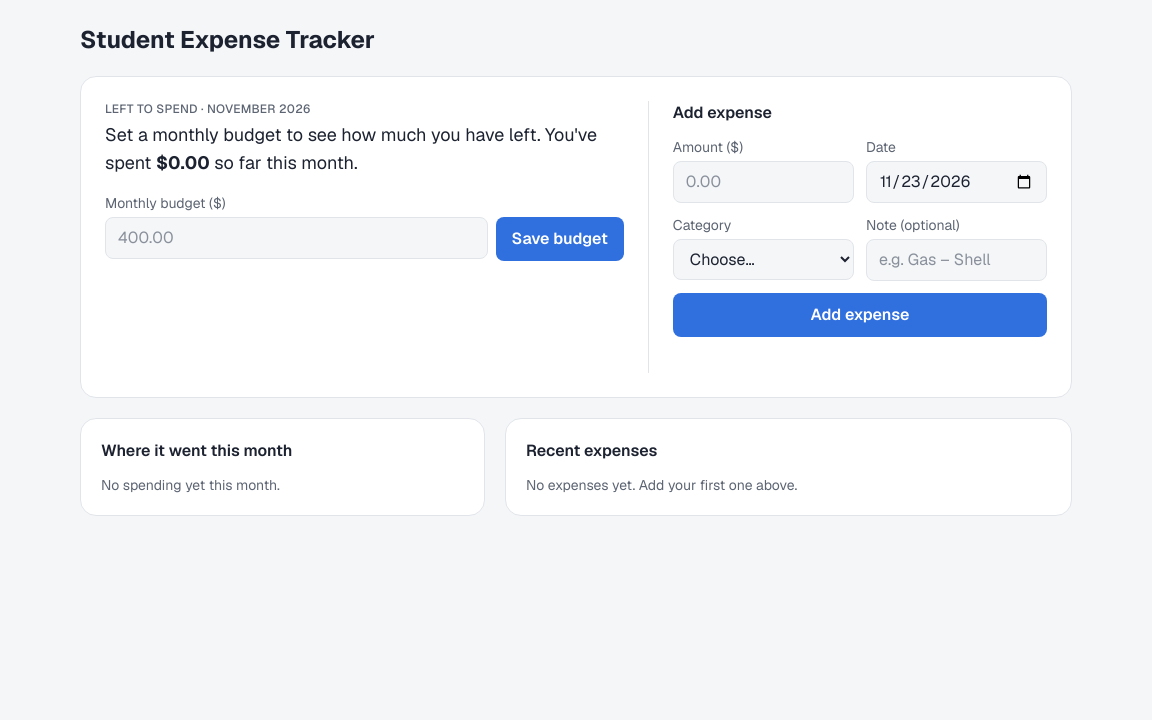
Scenario: S1-AC1: clicking Add expense records the date and amount and shows the category › records the expense and shows it with its category
Check: the date field labelled "Date" holds "2026-11-23", box [866,161,1047,203]
Type "31.20" into the field labelled "Amount ($)" at [763, 182], box [673,161,854,203]
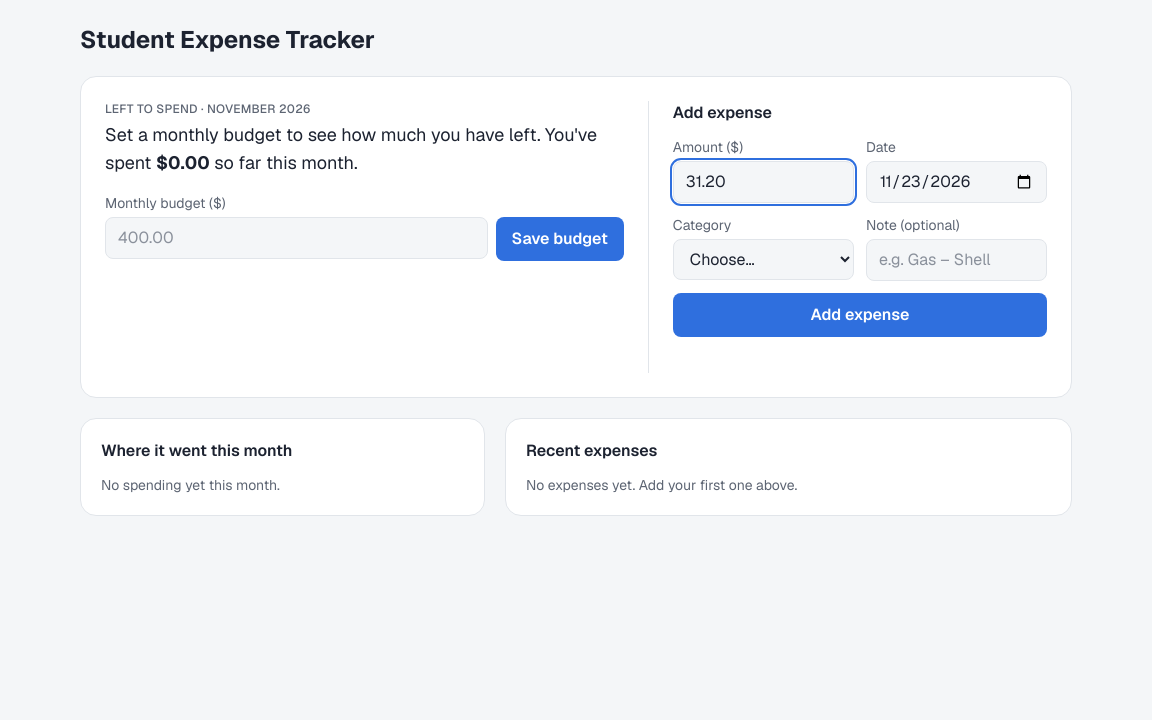
Type "2026-11-22" into the date field labelled "Date" at [956, 182], box [866,161,1047,203]
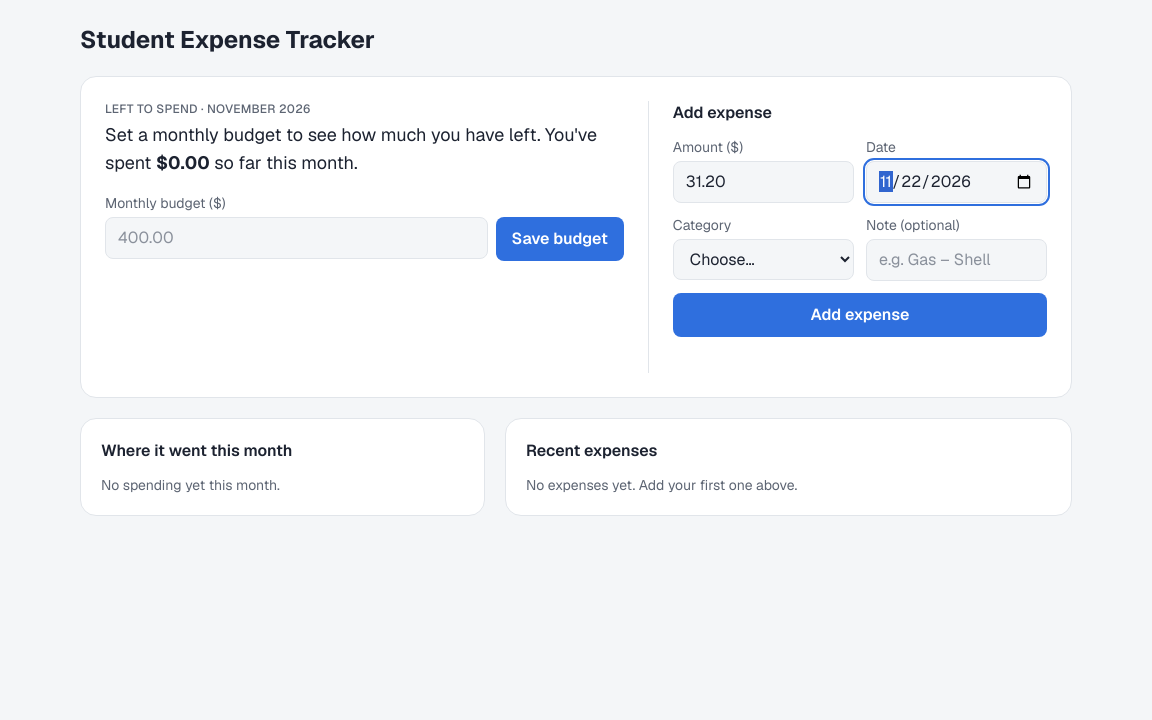
Select "Transport" in the dropdown labelled "Category" at [763, 260], box [673,239,854,280]
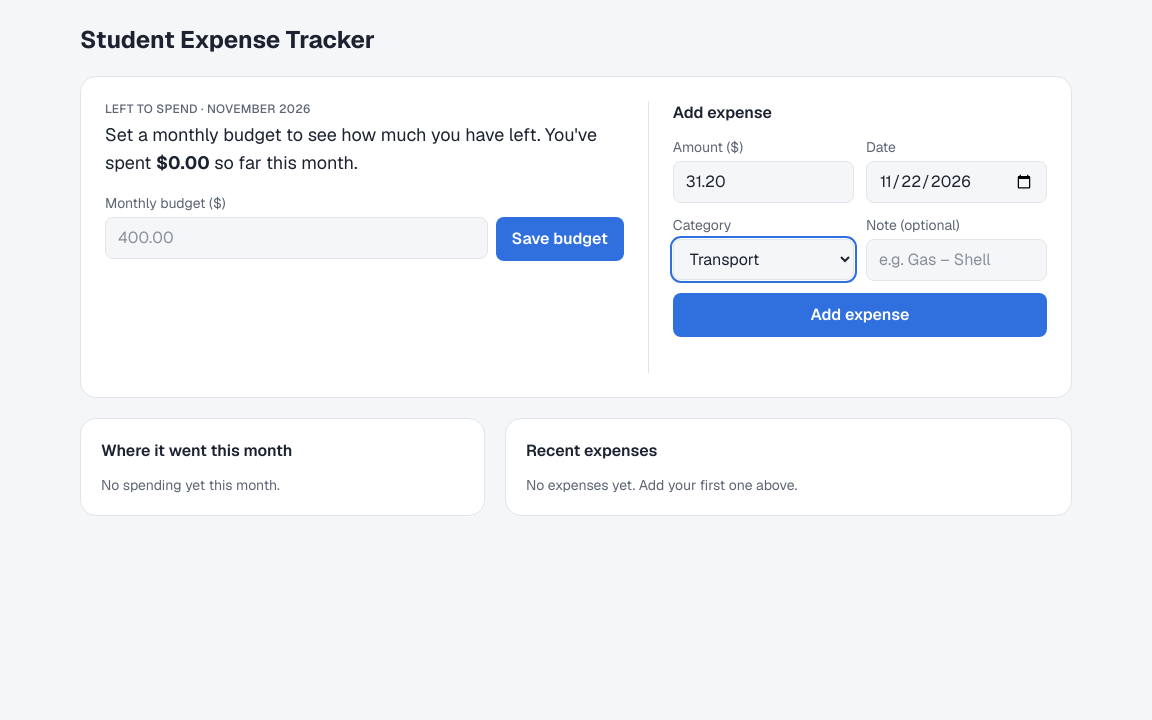
Type "Gas – Shell" into the field labelled "Note (optional)" at [956, 260], box [866,239,1047,281]
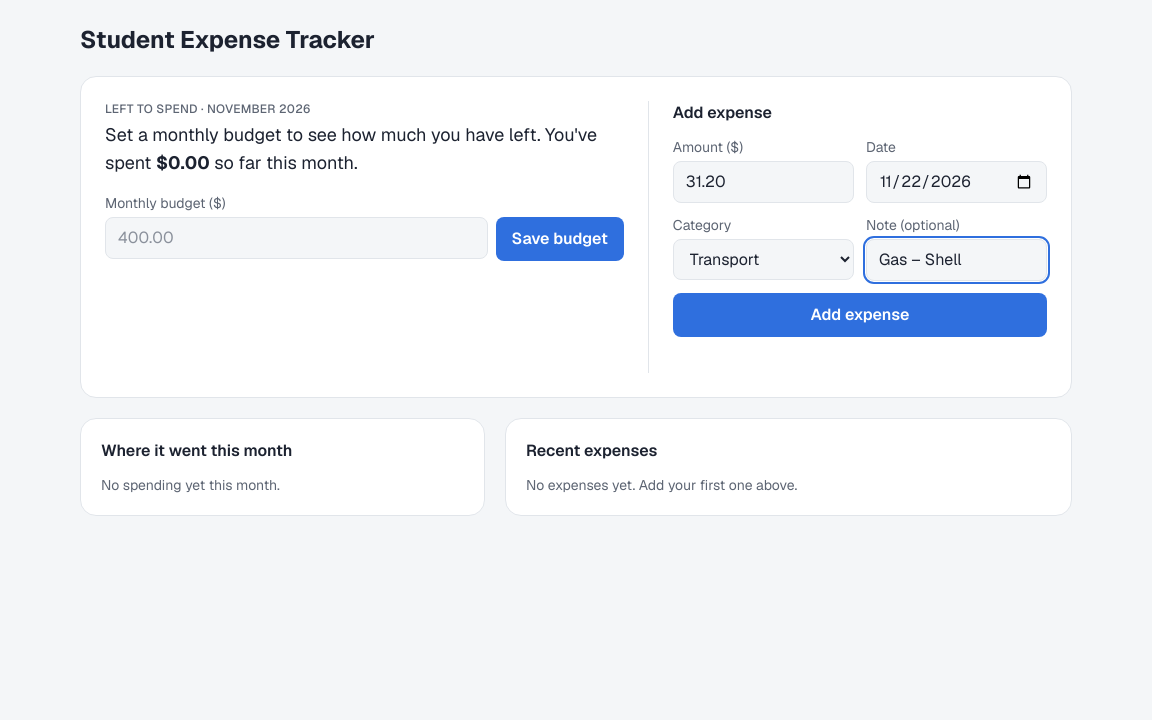
Click the button "Add expense" at [860, 315], box [673,293,1047,337]
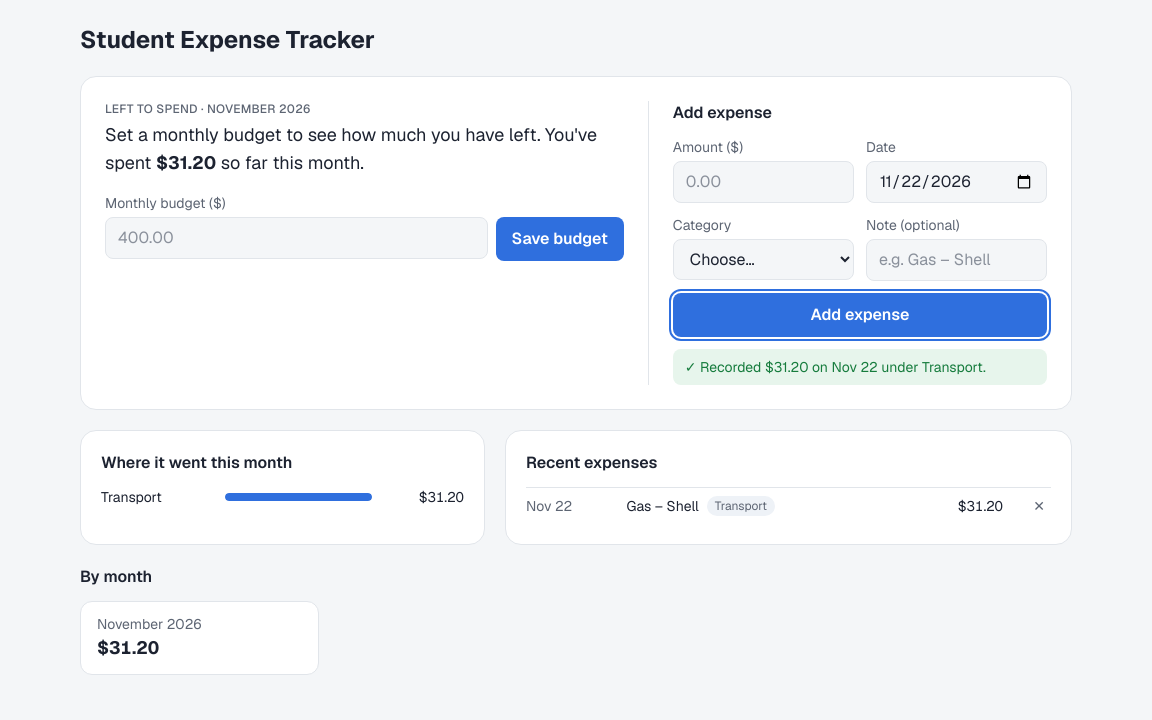
Check: the message shows "Recorded $31.20 on Nov 22 under Transport.", box [700,358,986,376]
Check: the text "Transport" next to "Gas – Shell" is shown, box [715,498,767,514]
Check: the text "$31.20" is shown, box [916,488,1007,524]
